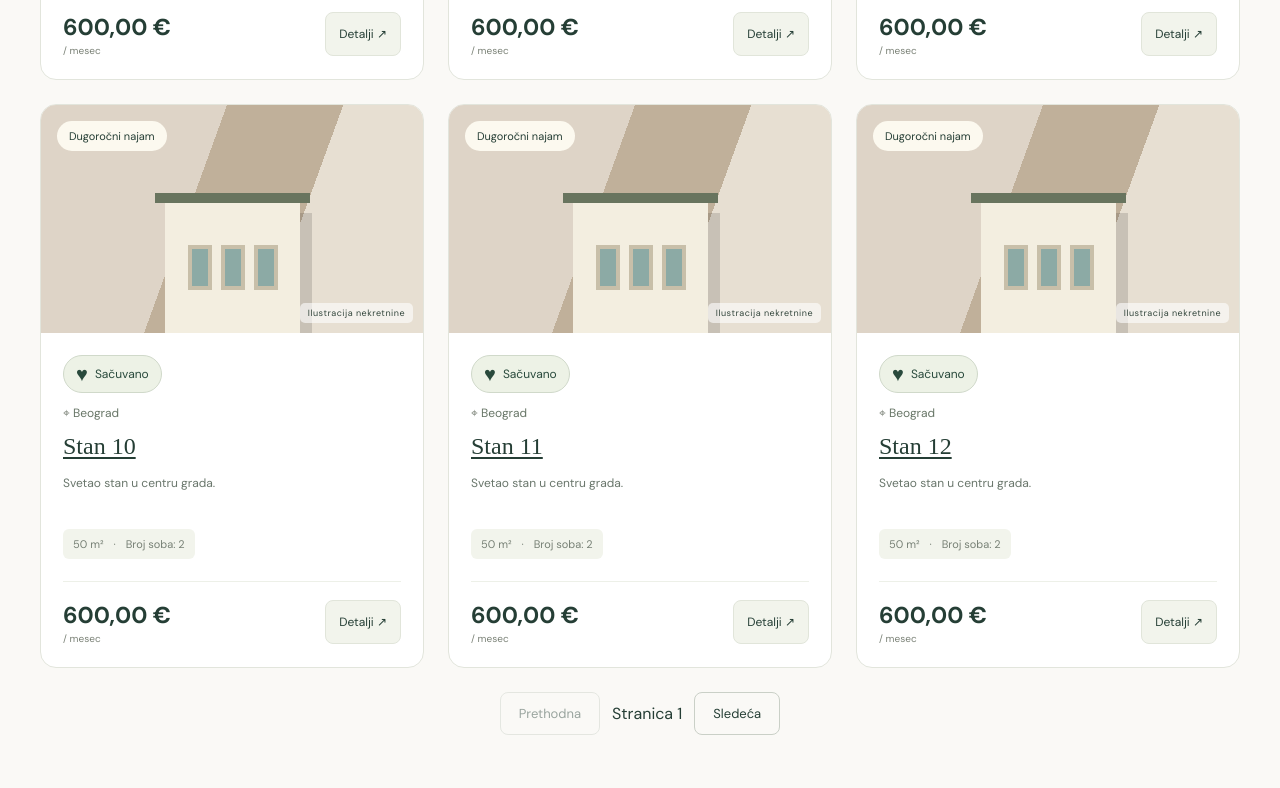
Test: returns to the previous page after removing the last item on a later page
(page scrolled)
Click the button "Sledeća" at (737, 713), box [694, 692, 780, 735]
(page scrolled)
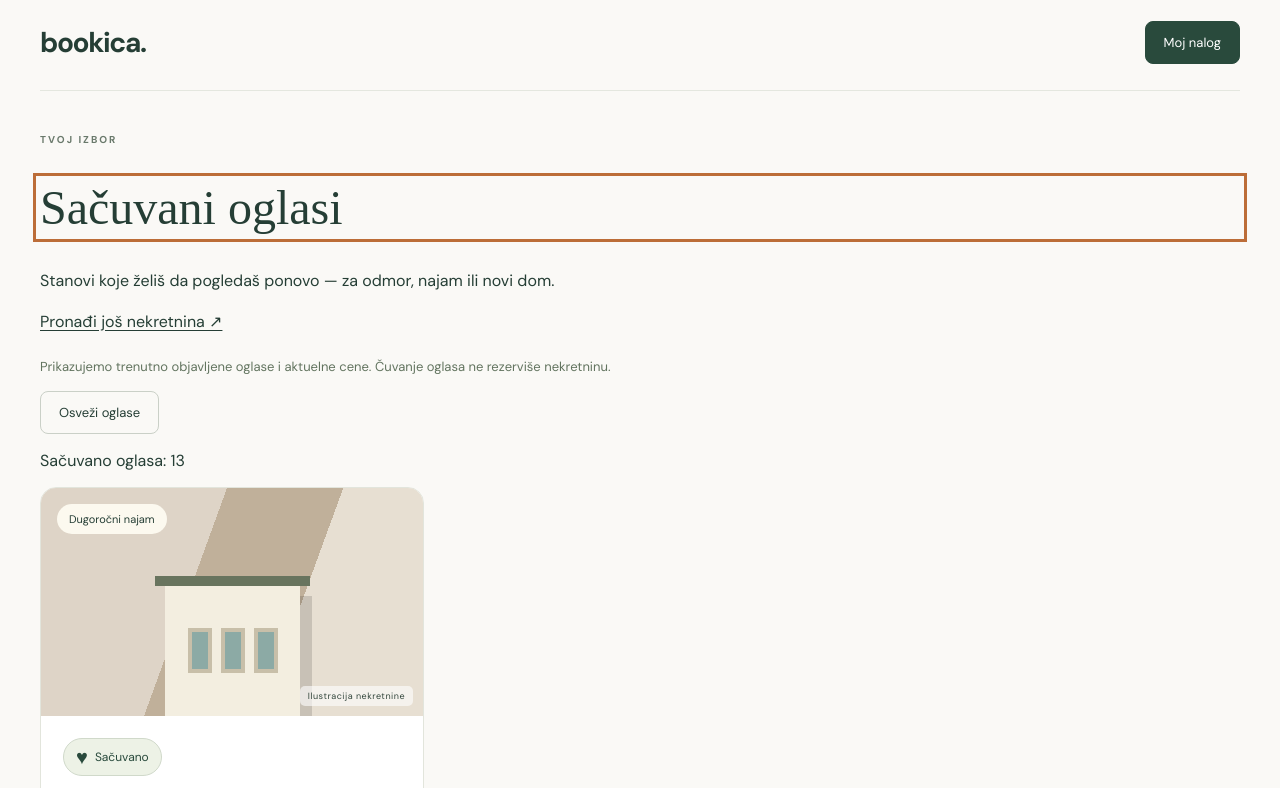
Click the button "♥ Sačuvano" at (112, 757), box [63, 738, 162, 776]
(page scrolled)
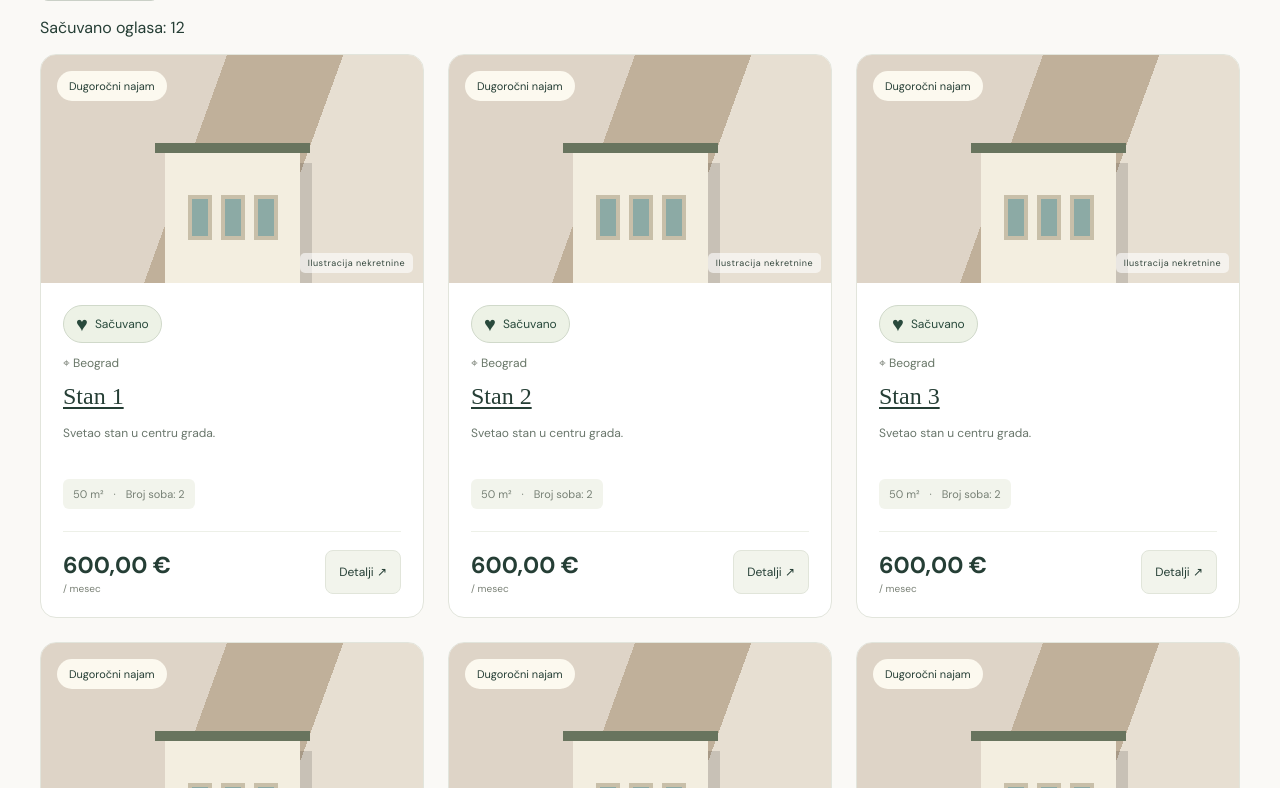
Expected: the heading "Stan 1" is shown, [63, 383, 124, 409]
